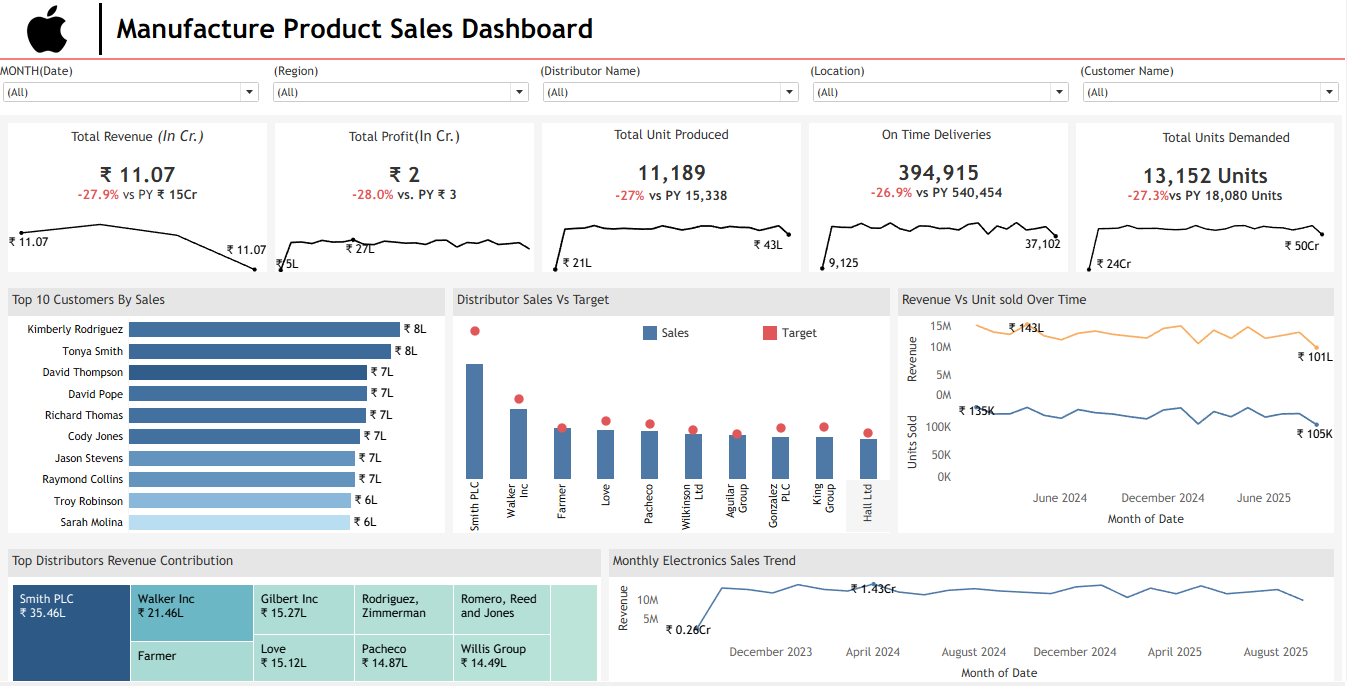

This screenshot's page, from the dashboard's own definition file:
{"tool":"tableau","page":{"name":"Dashboard 2","canvas":[1350,750],"ordinal":1},"visuals":[{"type":"image","param":"Image/download__1_-removebg-preview.png","box":[0,0,103,58]},{"type":"blank","box":[103,0,3,58]},{"type":"text","box":[106,0,612,58]},{"type":"blank","box":[718,0,632,58]},{"type":"blank","box":[0,58,1350,2]},{"type":"filter","title":"Total Revenue","param":"[federated.0bsn9tm14zc44j15jpvzd0lx3n3e].[Action (MONTH(Date))]","box":[0,60,270,51]},{"type":"filter","title":"Total Revenue","param":"[federated.0bsn9tm14zc44j15jpvzd0lx3n3e].[Action (Region)]","box":[270,60,270,51]},{"type":"filter","title":"Total Revenue","param":"[federated.0bsn9tm14zc44j15jpvzd0lx3n3e].[Action (Distributor Name)]","box":[540,60,270,51]},{"type":"filter","title":"Total Revenue","param":"[federated.0bsn9tm14zc44j15jpvzd0lx3n3e].[none:Location:nk]","box":[810,60,270,51]},{"type":"filter","title":"Total Revenue","param":"[federated.0bsn9tm14zc44j15jpvzd0lx3n3e].[Action (Customer Name)]","box":[1080,60,270,51]},{"type":"worksheet","title":"Total Revenue","mark":"Automatic","rows":["Revenue"],"cols":["Date"],"box":[8,119,267,157]},{"type":"worksheet","title":"Total Profit","mark":"Automatic","rows":["Profit"],"cols":["Date"],"box":[275,119,267,157]},{"type":"worksheet","title":"Total Unit Produced","mark":"Automatic","rows":["Units_Produced"],"cols":["Date"],"box":[542,119,267,157]},{"type":"worksheet","title":"On Time Deliveries ","mark":"Automatic","rows":["On_time_Delivery_%"],"cols":["Date"],"box":[809,119,267,157]},{"type":"worksheet","title":"Total Units Demanded","mark":"Automatic","rows":["Units_Demanded"],"cols":["Date"],"box":[1076,119,266,157]},{"type":"worksheet","title":"Top 10 Customers By Sales","mark":"Automatic","rows":["Customer_Name"],"cols":["Revenue"],"box":[8,284,445,253]},{"type":"worksheet","title":"Distributor Sales Vs Target","mark":"Bar","rows":["Revenue","Target"],"cols":["Distributor_Name"],"box":[453,284,445,253]},{"type":"worksheet","title":"Revenue Vs Unit sold Over Time","mark":"Automatic","rows":["Revenue","Units_Sold"],"cols":["Date"],"box":[898,284,444,253]},{"type":"legend","title":"Distributor Sales Vs Target","param":"[federated.0bsn9tm14zc44j15jpvzd0lx3n3e].[:Measure Names]","box":[644,330,252,38]},{"type":"worksheet","title":"Top Distributors Revenue Contribution","mark":"Automatic","box":[8,545,601,197]},{"type":"worksheet","title":"Monthly Electronics Sales Trend","mark":"Automatic","rows":["Revenue"],"cols":["Date"],"box":[609,545,733,197]}]}

Visuals, with their boxes on the page's 1350x750 design canvas (x1, y1, x2, y2). These are canvas units, not pixel positions in the 1347x686 screenshot, which may show the page scaled, cropped or inside an application window:
image: <bbox>0, 0, 103, 58</bbox>
blank: <bbox>103, 0, 106, 58</bbox>
text: <bbox>106, 0, 718, 58</bbox>
blank: <bbox>718, 0, 1350, 58</bbox>
blank: <bbox>0, 58, 1350, 60</bbox>
"Total Revenue" filter: <bbox>0, 60, 270, 111</bbox>
"Total Revenue" filter: <bbox>270, 60, 540, 111</bbox>
"Total Revenue" filter: <bbox>540, 60, 810, 111</bbox>
"Total Revenue" filter: <bbox>810, 60, 1080, 111</bbox>
"Total Revenue" filter: <bbox>1080, 60, 1350, 111</bbox>
"Total Revenue" worksheet: <bbox>8, 119, 275, 276</bbox>
"Total Profit" worksheet: <bbox>275, 119, 542, 276</bbox>
"Total Unit Produced" worksheet: <bbox>542, 119, 809, 276</bbox>
"On Time Deliveries " worksheet: <bbox>809, 119, 1076, 276</bbox>
"Total Units Demanded" worksheet: <bbox>1076, 119, 1342, 276</bbox>
"Top 10 Customers By Sales" worksheet: <bbox>8, 284, 453, 537</bbox>
"Distributor Sales Vs Target" worksheet (Bar marks): <bbox>453, 284, 898, 537</bbox>
"Revenue Vs Unit sold Over Time" worksheet: <bbox>898, 284, 1342, 537</bbox>
"Distributor Sales Vs Target" legend: <bbox>644, 330, 896, 368</bbox>
"Top Distributors Revenue Contribution" worksheet: <bbox>8, 545, 609, 742</bbox>
"Monthly Electronics Sales Trend" worksheet: <bbox>609, 545, 1342, 742</bbox>
